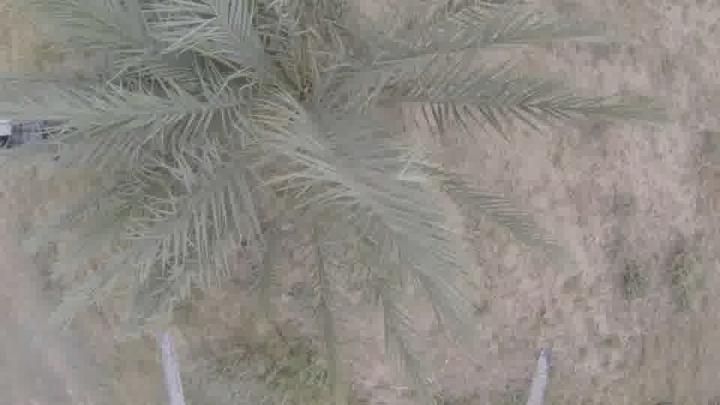Date-Palm-Crown: (94, 0, 500, 280)
